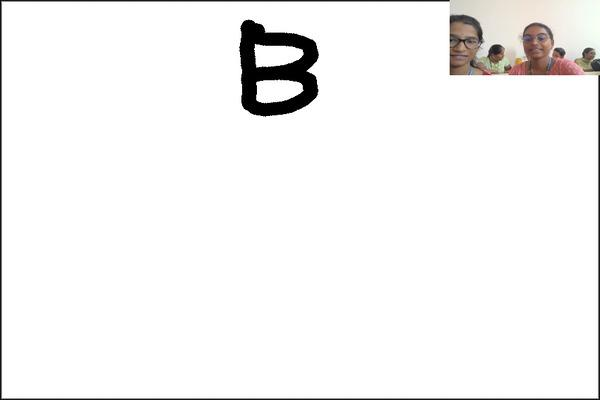B: (230, 12, 327, 124)
